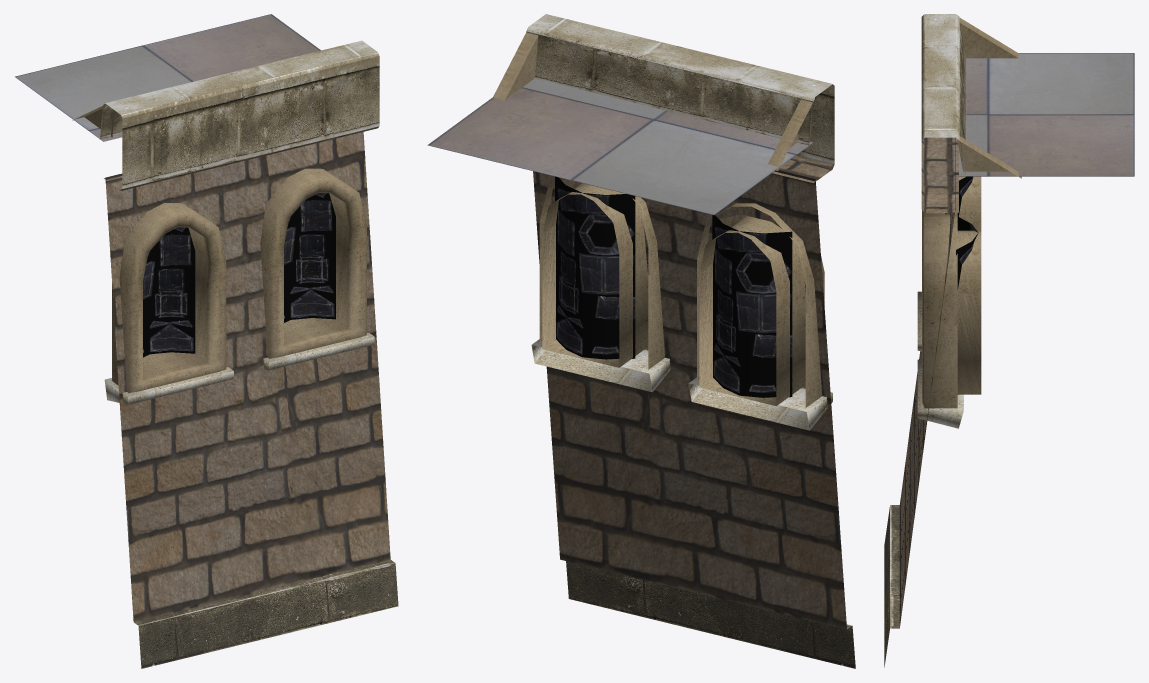
The model's file is castle-wall2-w-window-small-2.fbx.
The picture shows the model from 3 angles, left to right: view 1: azimuth 30°, elevation 25°; view 2: azimuth 150°, elevation 25°; view 3: azimuth 270°, elevation 25°; orthographic projection. The views are drawn at different scales.
Parts seen in each view (by area): view 1: castle-wall2-w-window-small-2; view 2: castle-wall2-w-window-small-2; view 3: castle-wall2-w-window-small-2.
Part boxes in pixels (x1,y1,x2,y2): castle-wall2-w-window-small-2: (15,14,398,668); castle-wall2-w-window-small-2: (427,14,855,668); castle-wall2-w-window-small-2: (884,14,1134,667).
Bounding box in the file's own units: 200 × 401 × 171.
